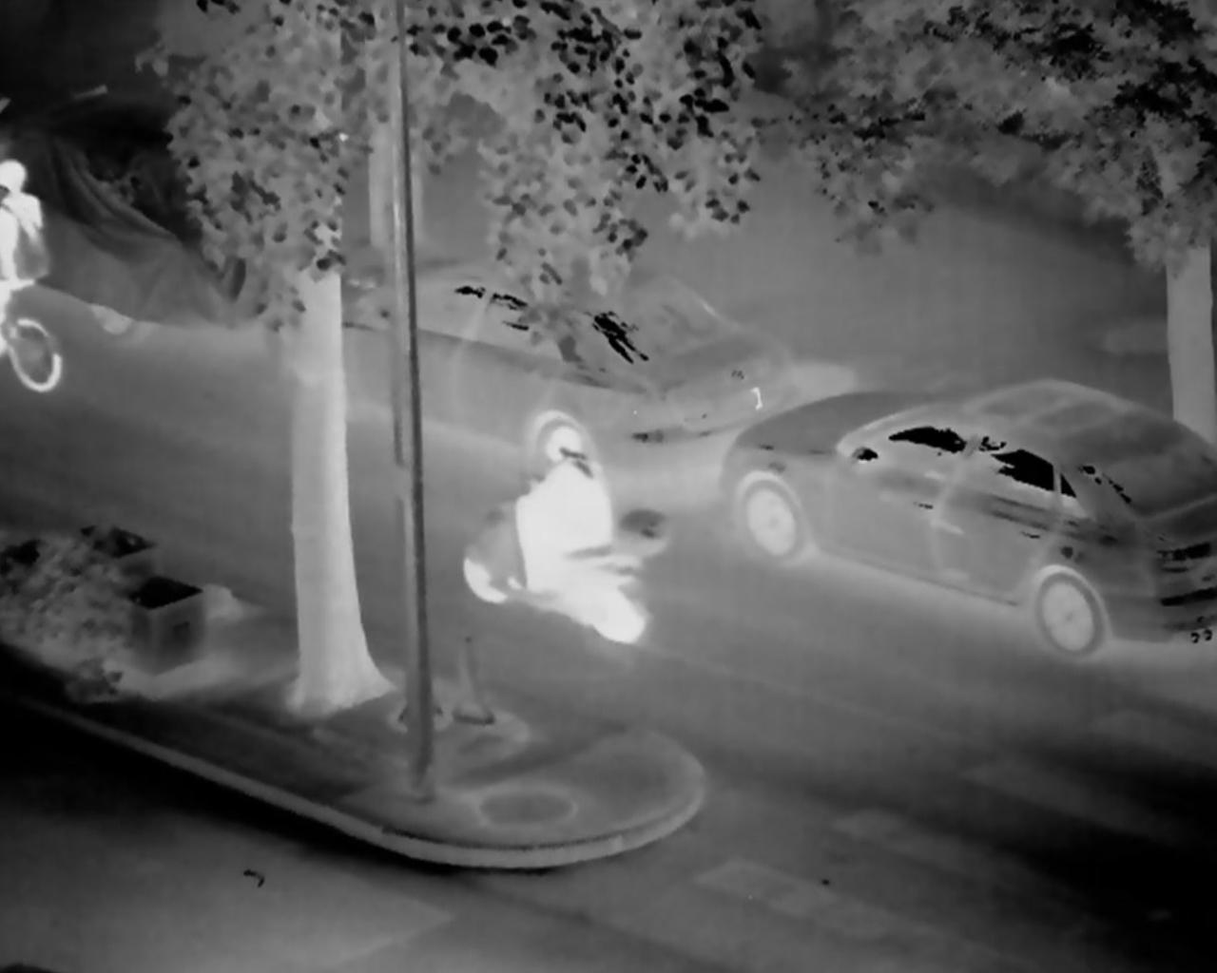person: (504, 426, 619, 596)
